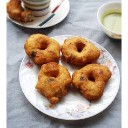vada: (36, 62, 70, 101), (72, 65, 109, 97), (26, 34, 60, 63), (63, 38, 100, 64)
